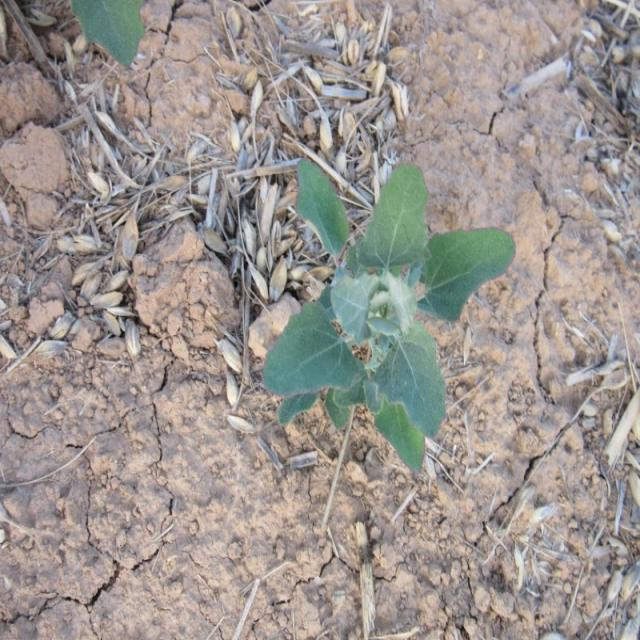ca: (267, 152, 516, 476)
